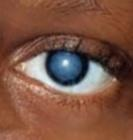eye: (46, 50, 90, 88)
